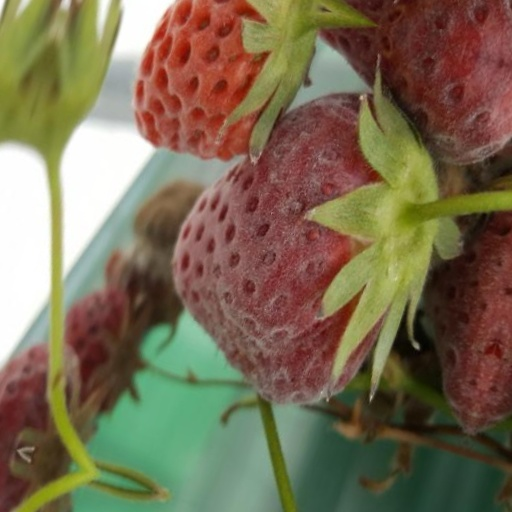Powdery Mildew Fruit: (90, 119, 338, 447), (13, 401, 268, 511), (0, 147, 86, 439)
